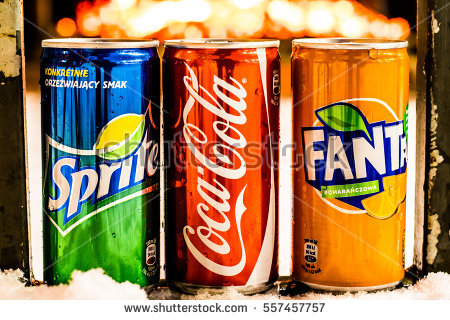fanta: (288, 40, 412, 285)
